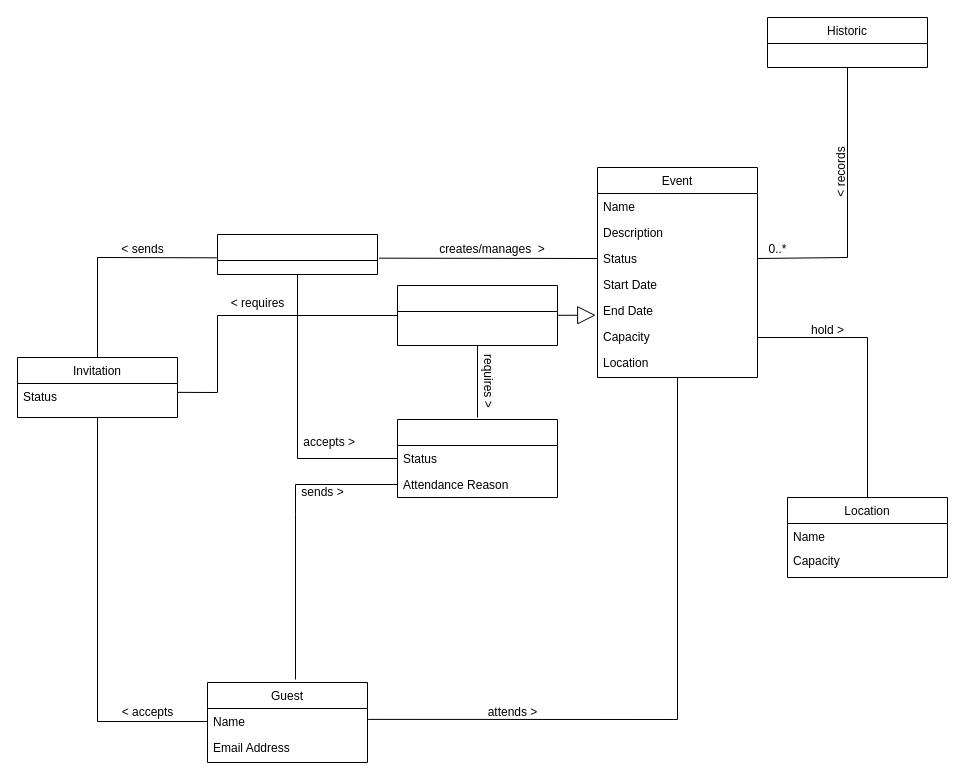
Image size: 965x781. Some labels were removed from this diagram. The shapes that lost their labels are listed below. From the top down, each one's box as (x1, y1, x2, y2) in pixels, then its label:
(216, 234, 378, 274): Manager
(396, 284, 558, 346): Private Event
(396, 418, 558, 498): Request
